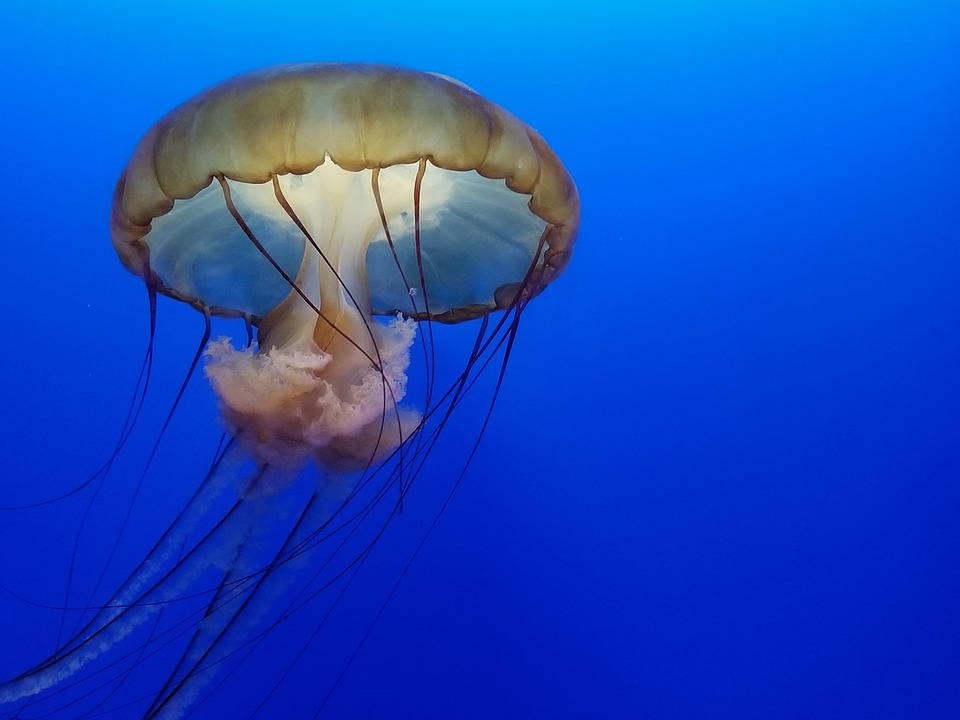jellyfish: (95, 42, 581, 658)
